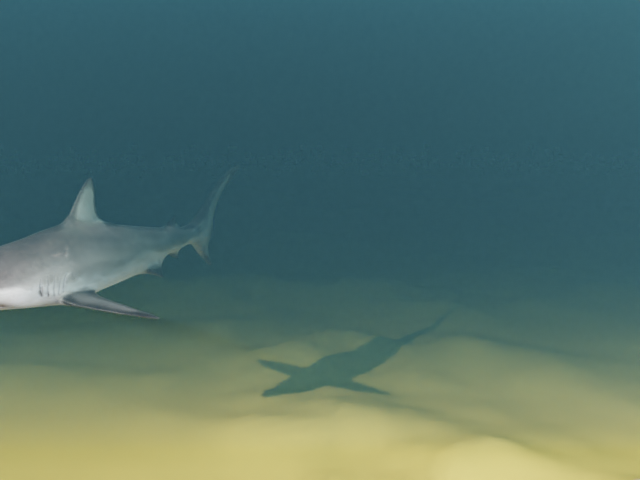Carribean Shark.001: (0, 165, 239, 318)
